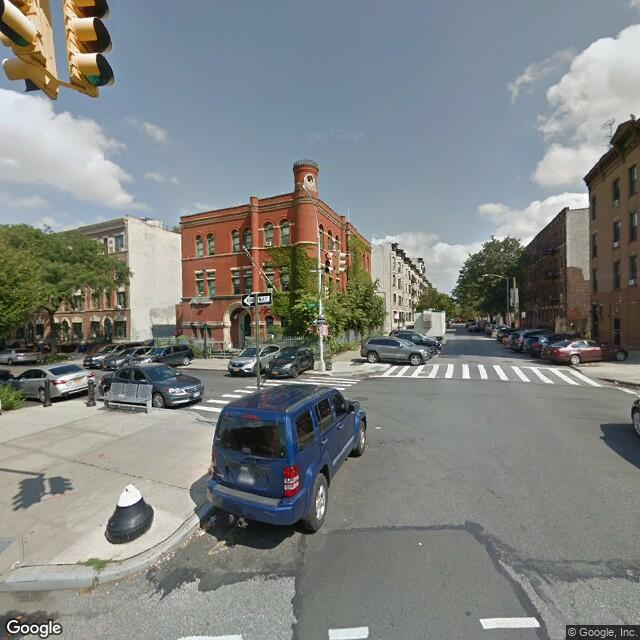litter: (418, 541, 424, 548), (376, 425, 382, 431)
